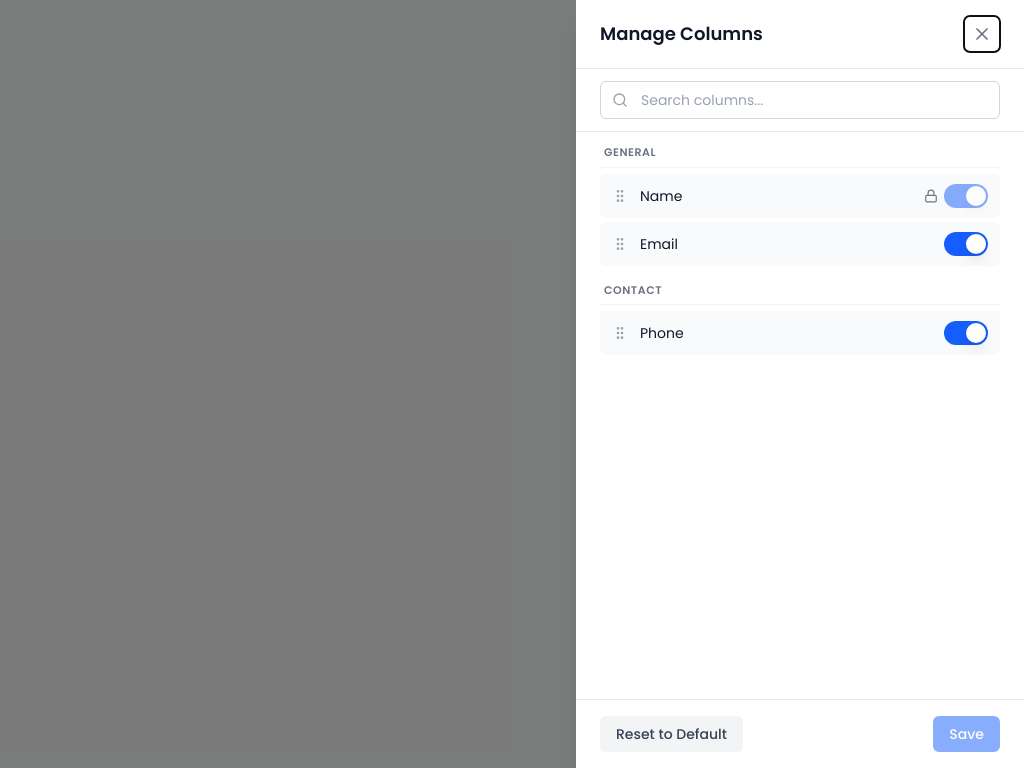
Test case: ManageColumnsDrawer — save, retry, and unsaved-changes guard › Requirement 5.7: Confirmation dialog on close with unsaved changes › shows confirmation dialog when closing with unsaved changes
Note: Create a change
Click the switch named "Toggle Email visibility": (966, 244) [944,232,988,256]
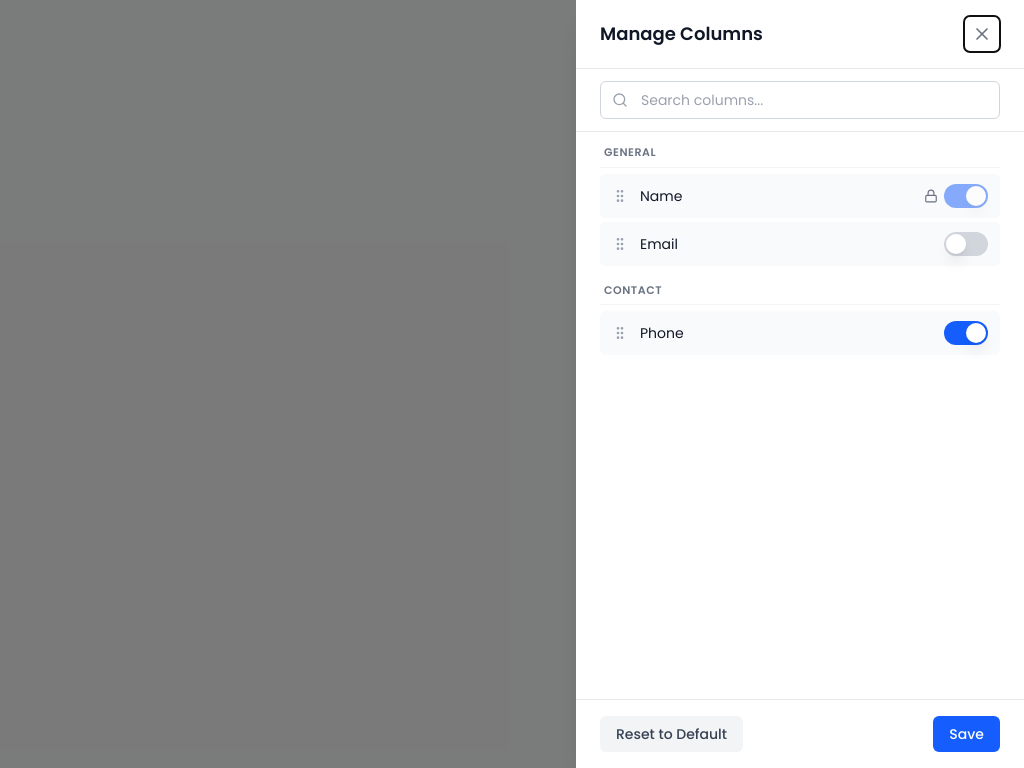
Note: Click close button
Click the button named "Close drawer": (982, 34) [964,16,1000,52]
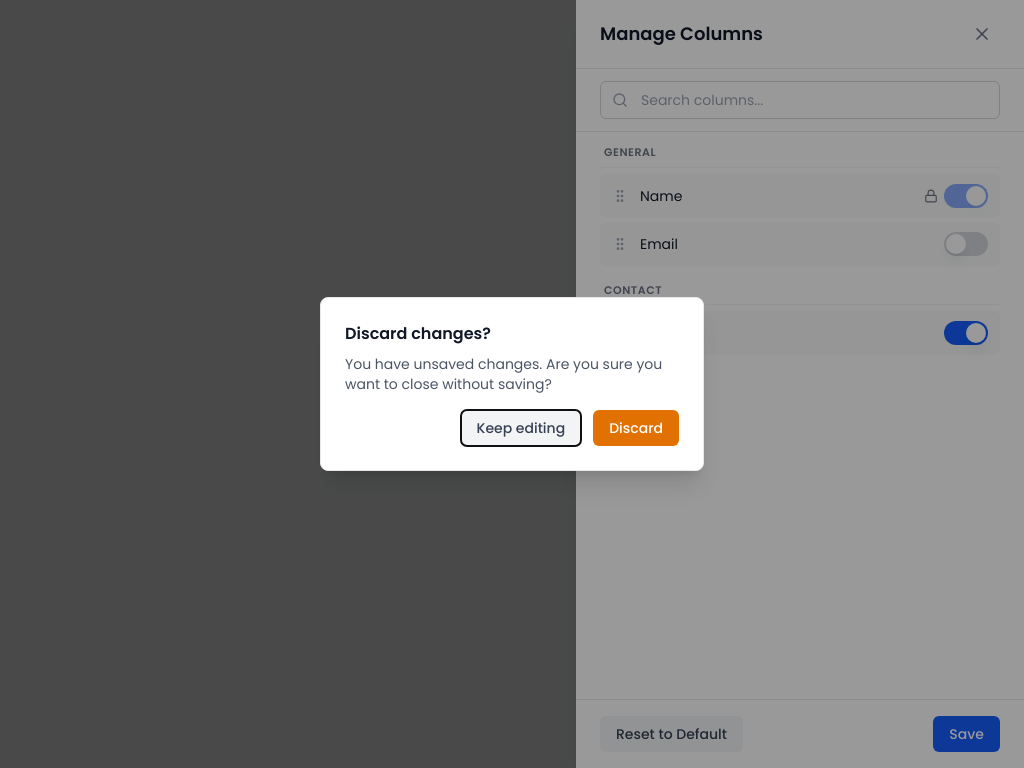
Expected: the heading "Discard changes?" is shown, [345,322,491,345]
